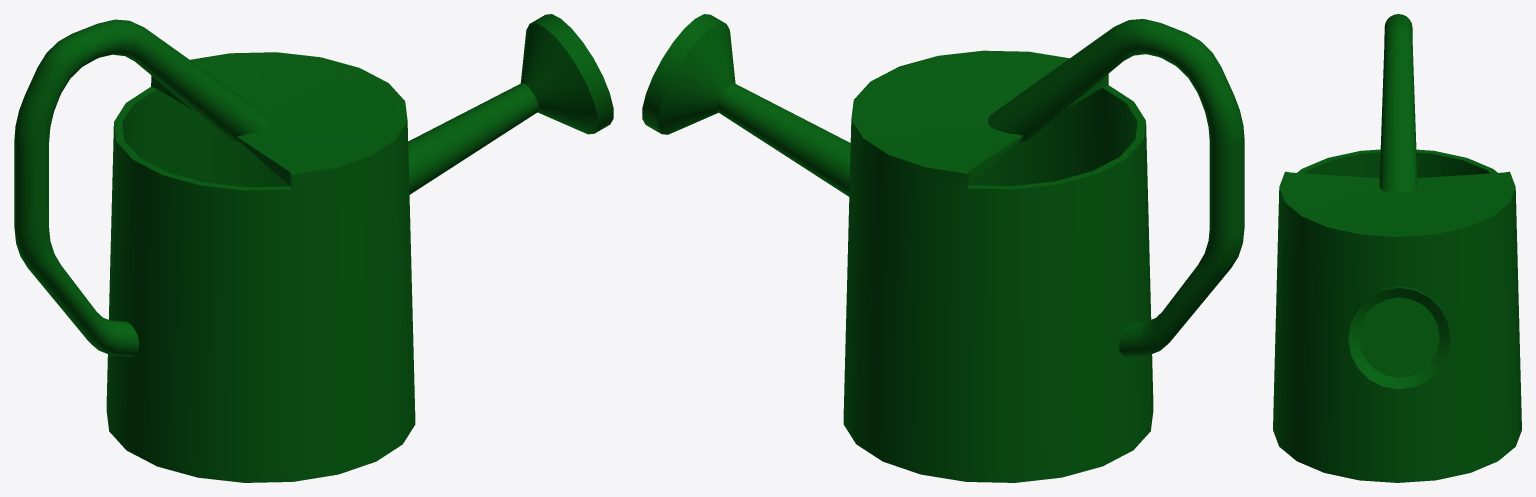
Rendered from Gieter.fbx.
The picture shows the model from 3 angles, left to right: view 1: azimuth 30°, elevation 25°; view 2: azimuth 150°, elevation 25°; view 3: azimuth 270°, elevation 25°; orthographic projection. The views are drawn at different scales.
Parts seen in each view (by area): view 1: gieter; view 2: gieter; view 3: gieter.
Part boxes in pixels (x1,y1,x2,y2): gieter: (14,14,613,482); gieter: (642,14,1244,482); gieter: (1273,14,1521,482).
Size of the model in its own units: 24.76 by 17.62 by 11.5.
